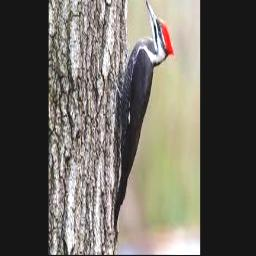Woodpecker: (111, 0, 175, 240)
